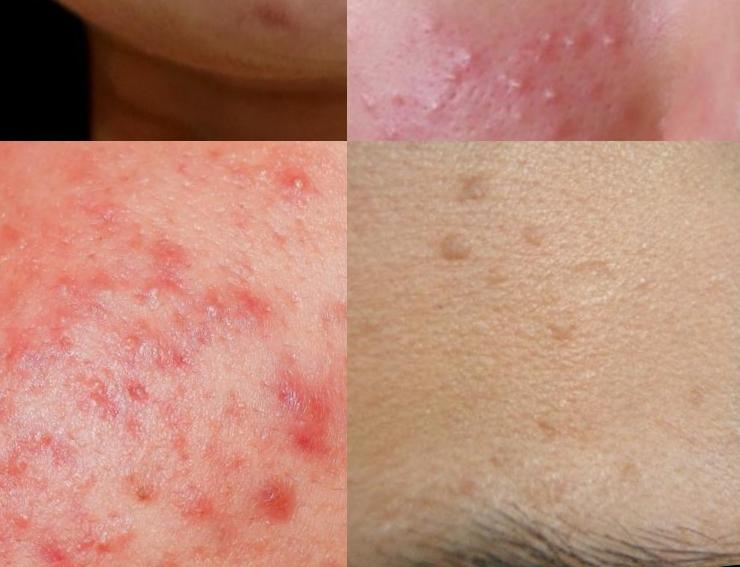acne_scars: (172, 269, 306, 363), (269, 379, 348, 486), (1, 414, 95, 501), (37, 254, 131, 333), (68, 362, 126, 430), (117, 368, 167, 418)
flat_wart: (414, 214, 490, 286), (524, 302, 591, 357), (443, 162, 509, 207), (519, 211, 557, 266)
papular: (238, 464, 306, 546), (430, 60, 474, 100), (409, 5, 446, 46), (502, 100, 538, 138), (604, 98, 635, 133), (546, 112, 578, 142)
purulent: (260, 151, 321, 218), (128, 268, 182, 318), (554, 28, 588, 66), (501, 65, 533, 102), (594, 25, 624, 62), (535, 83, 568, 113), (454, 43, 486, 73), (531, 23, 561, 50), (585, 1, 617, 14)
whitehead: (3, 491, 48, 541), (78, 521, 124, 567), (167, 165, 209, 211), (419, 88, 449, 125), (572, 77, 605, 110), (719, 46, 740, 83), (1, 246, 23, 280), (354, 94, 377, 121), (286, 346, 304, 375), (378, 125, 406, 142)
